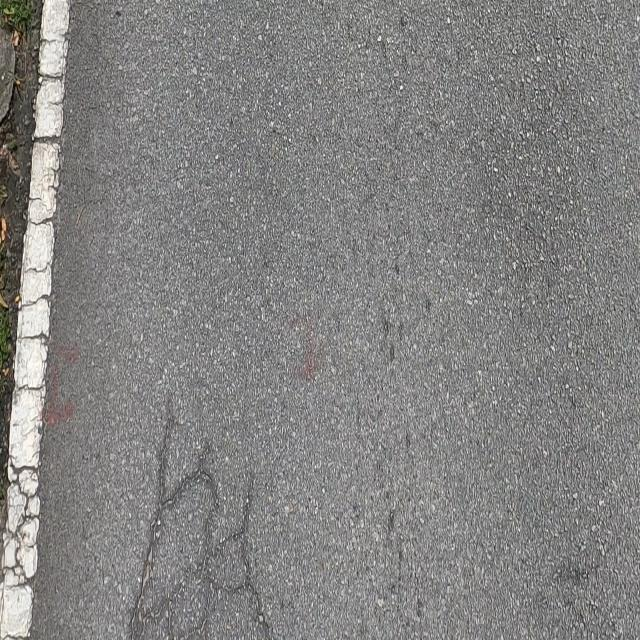Retak-Buaya: (130, 383, 275, 638)
